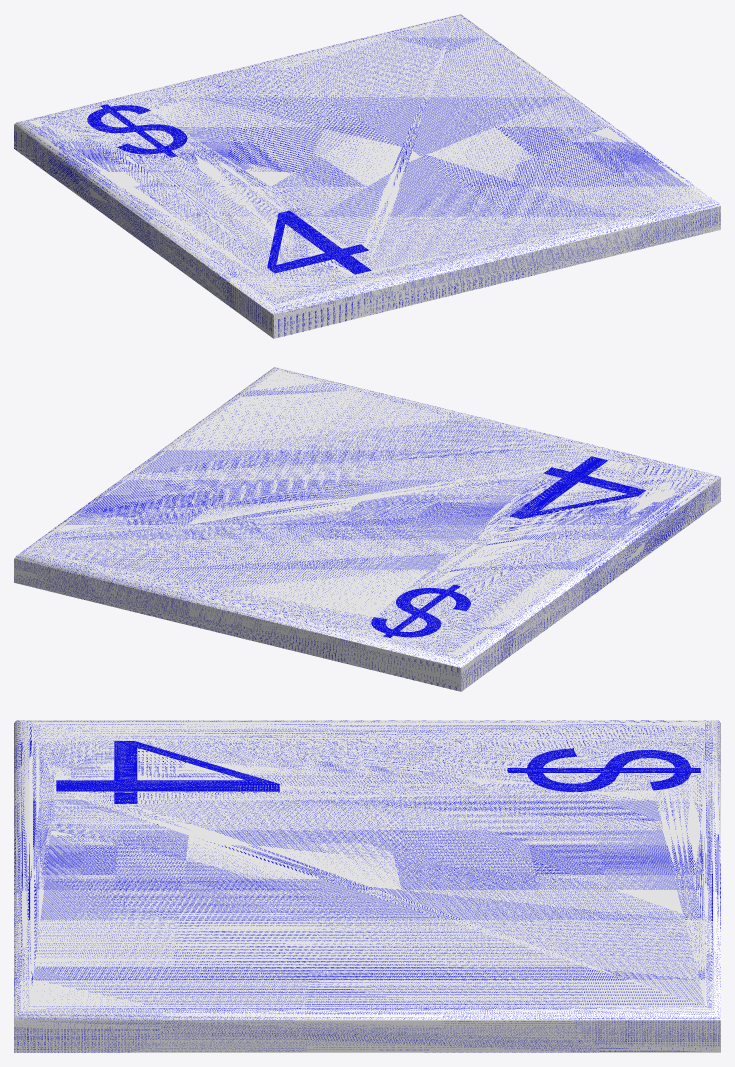
Rendered from original-35.obj.
The picture shows the model from 3 angles, top to bottom: view 1: azimuth 30°, elevation 25°; view 2: azimuth 150°, elevation 25°; view 3: azimuth 270°, elevation 25°; orthographic projection. The views are drawn at different scales.
Visible parts, largest first — view 1: mesh41/mesh41-geometry#mesh41-geometry; view 2: mesh41/mesh41-geometry#mesh41-geometry; view 3: mesh41/mesh41-geometry#mesh41-geometry.
Boxes of the visible parts, x1=… form: mesh41/mesh41-geometry#mesh41-geometry: x1=14, y1=14, x2=720, y2=338; mesh41/mesh41-geometry#mesh41-geometry: x1=14, y1=367, x2=720, y2=691; mesh41/mesh41-geometry#mesh41-geometry: x1=14, y1=720, x2=720, y2=1052.
Size of the model in its own units: 0.0899 by 0.0056 by 0.0905.
